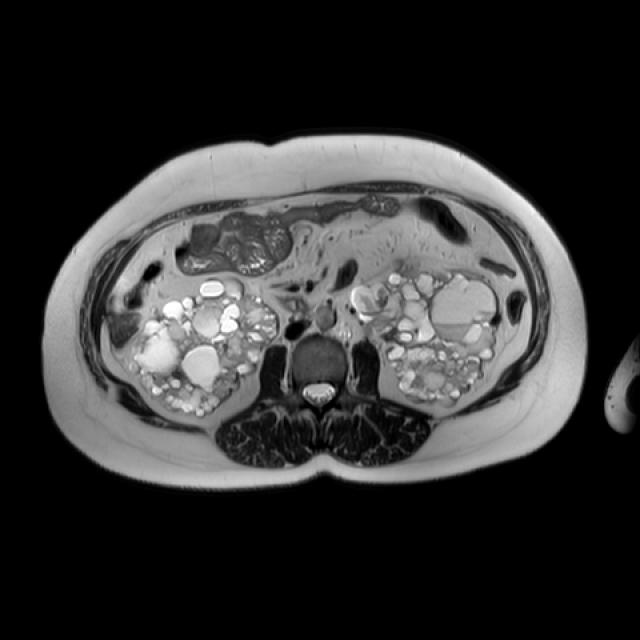sag: (132, 274, 283, 419)
sol: (352, 272, 498, 406)
